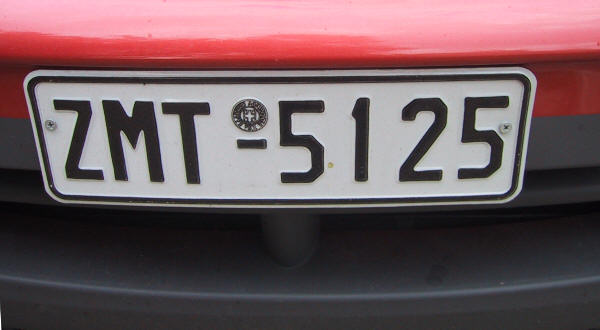license_plate: (24, 70, 540, 208)
